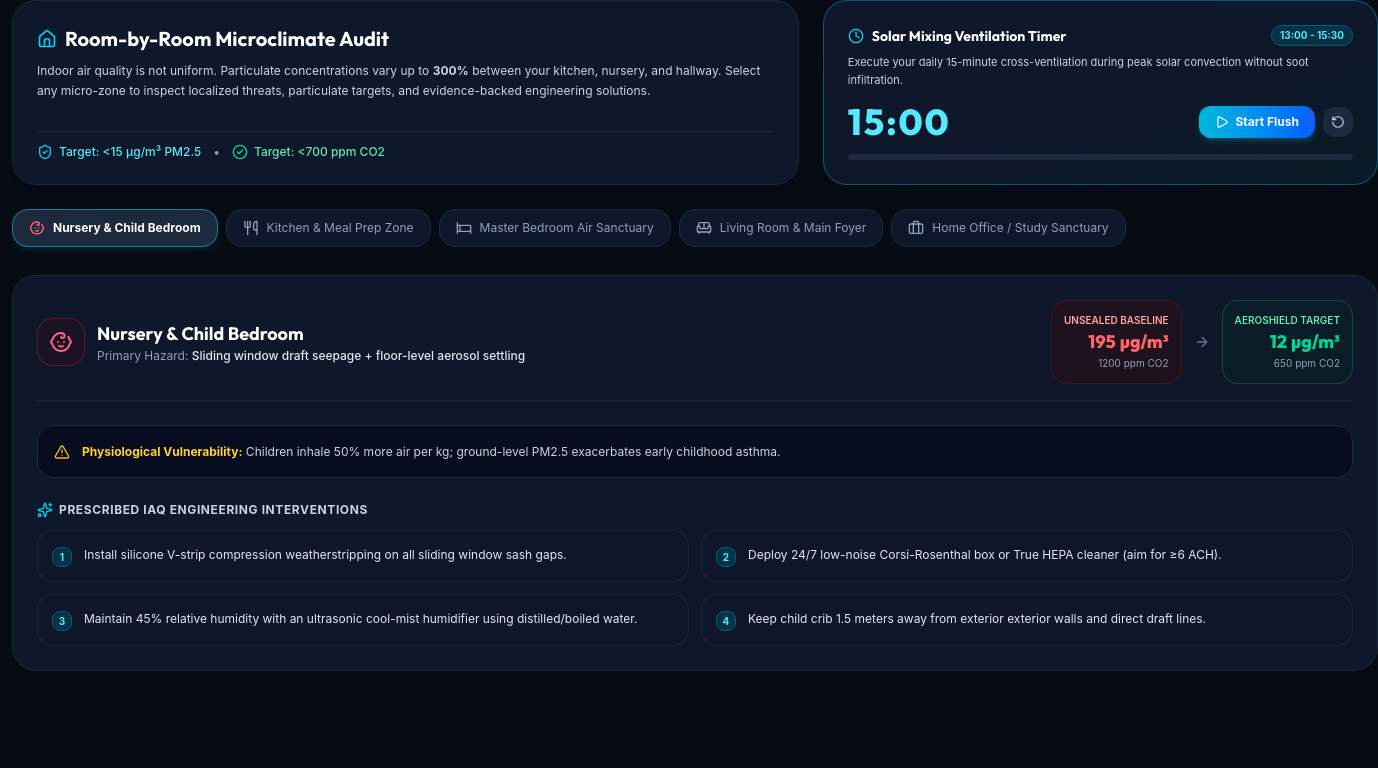
RoomIAQAudit Component & Ventilation Timer › controls 15-minute solar ventilation countdown timer
expect the text "15:00" is shown: met, box x1=848 y1=102 x2=950 y2=142
Click the button with aria-label "Start 15-minute solar ventilation timer" at {"x": 1257, "y": 122}, box x1=1199 y1=106 x2=1315 y2=138
Wait 5000 ms
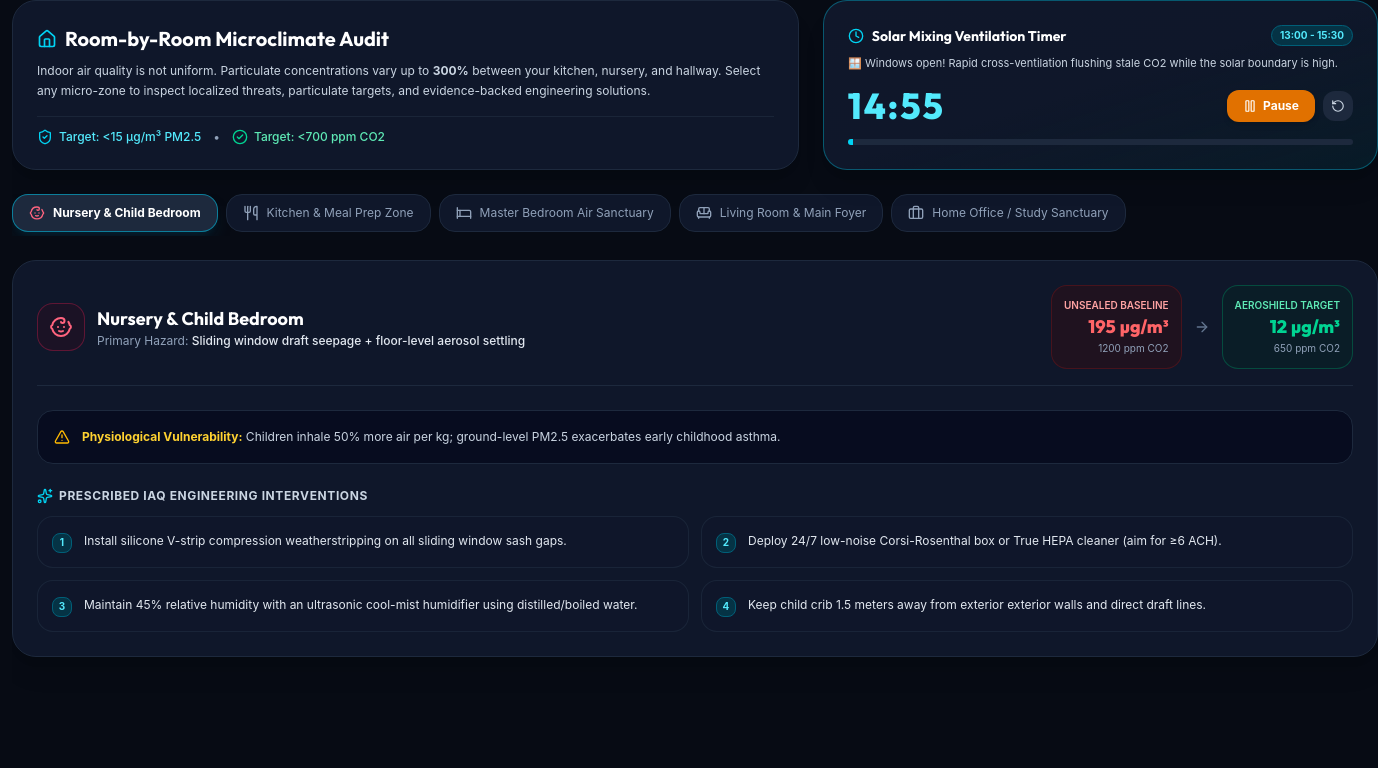
expect the text "14:55" is shown: met, box x1=848 y1=86 x2=945 y2=126
# Pause timer
Click the button with aria-label "Pause solar ventilation timer" at {"x": 1271, "y": 106}, box x1=1227 y1=90 x2=1315 y2=122
Wait 5000 ms
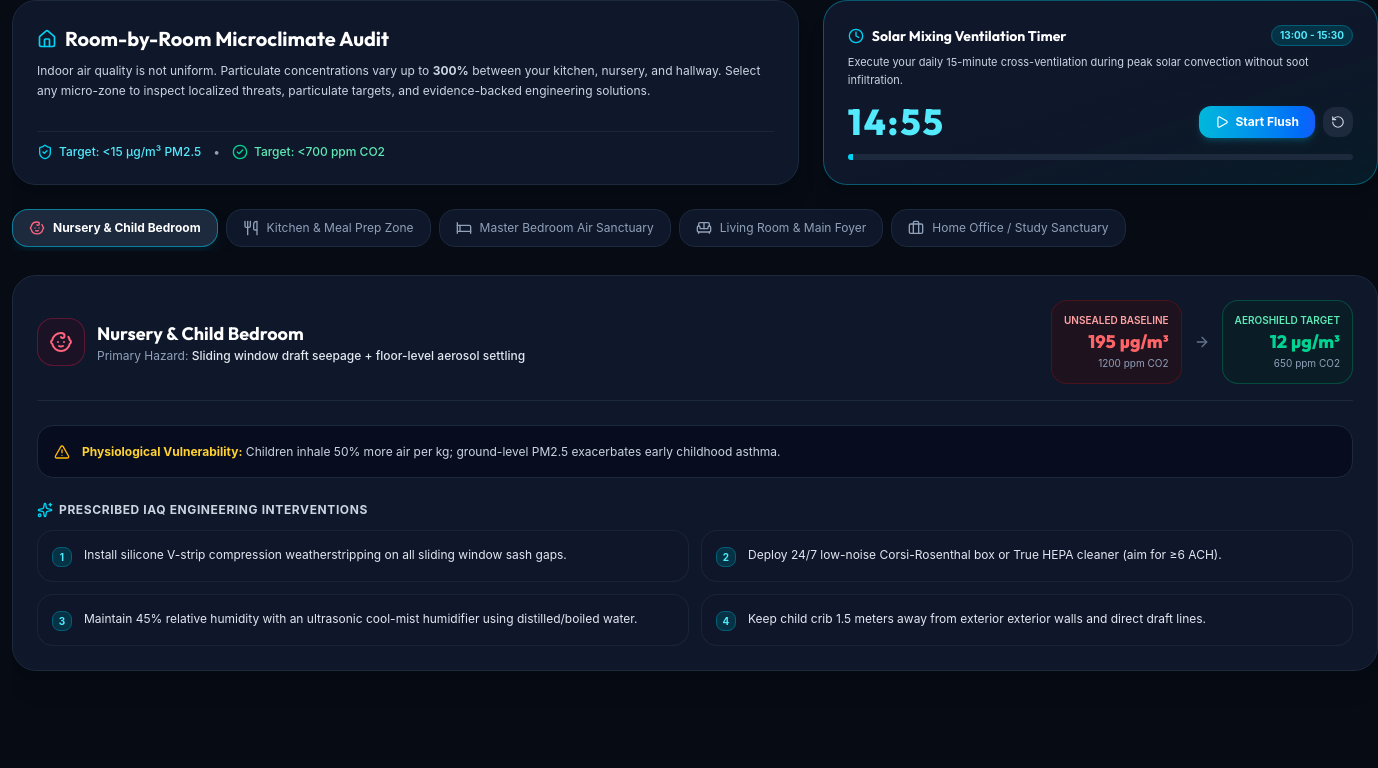
expect the text "14:55" is shown: met, box x1=848 y1=102 x2=945 y2=142
# Reset timer
Click the button named "Reset solar ventilation timer" at {"x": 1338, "y": 122}, box x1=1323 y1=107 x2=1353 y2=137
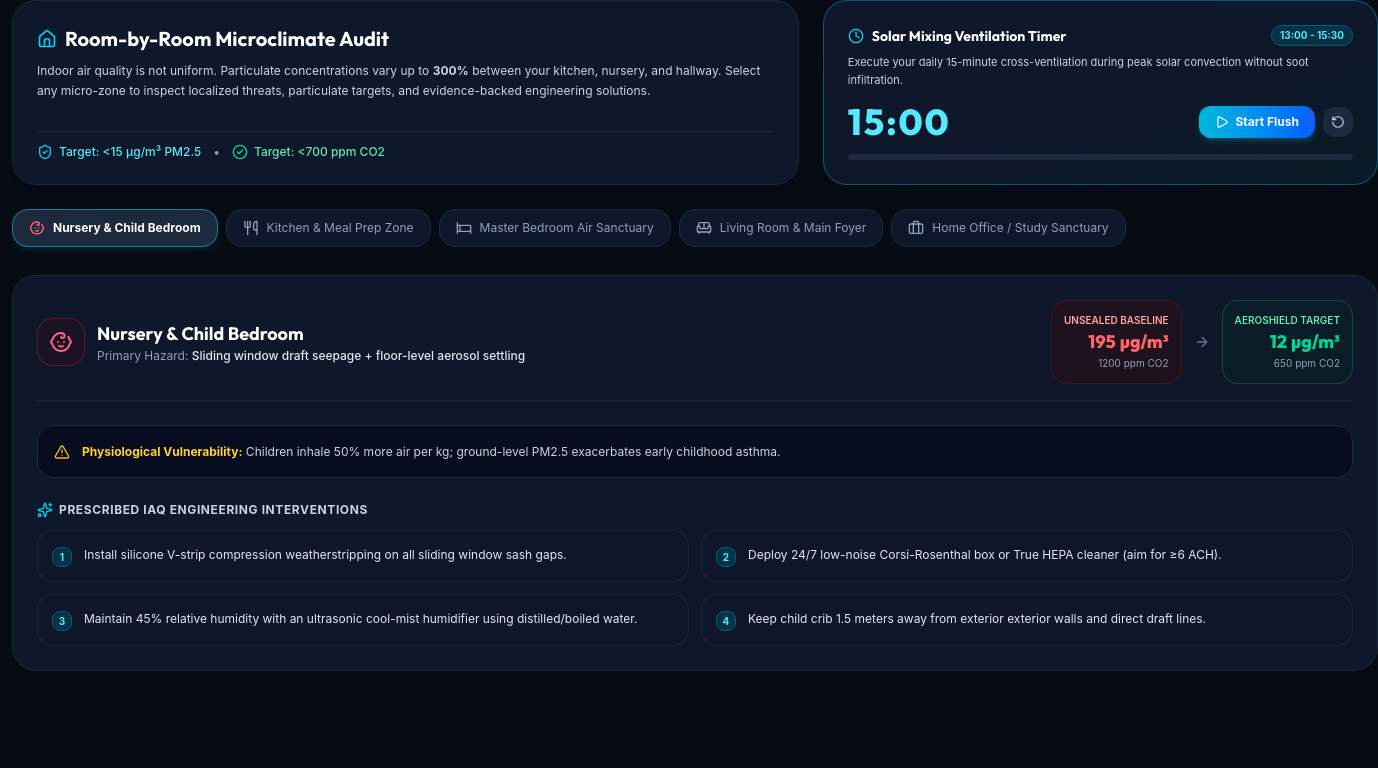
expect the text "15:00" is shown: met, box x1=848 y1=102 x2=950 y2=142
